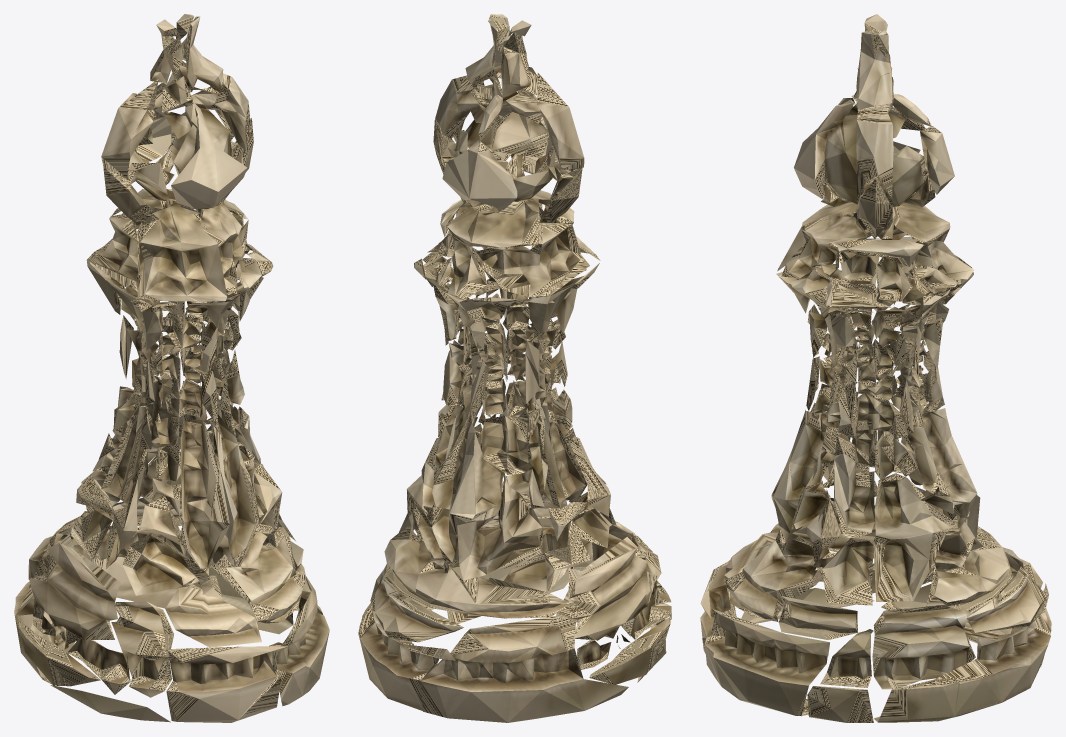
Rendered from bishop.glb.
3 views of the same model, side by side, from view 1: azimuth 30°, elevation 25°; view 2: azimuth 150°, elevation 25°; view 3: azimuth 270°, elevation 25° (orthographic).
Visible parts, largest first — view 1: geometry_0; view 2: geometry_0; view 3: geometry_0.
Boxes of the visible parts, x1=… form: geometry_0: x1=14, y1=14, x2=329, y2=722; geometry_0: x1=358, y1=14, x2=671, y2=722; geometry_0: x1=700, y1=14, x2=1051, y2=722.
Size of the model in its own units: 0.2907 by 0.6828 by 0.3367.
Materials: 1 (1 with a texture image).
